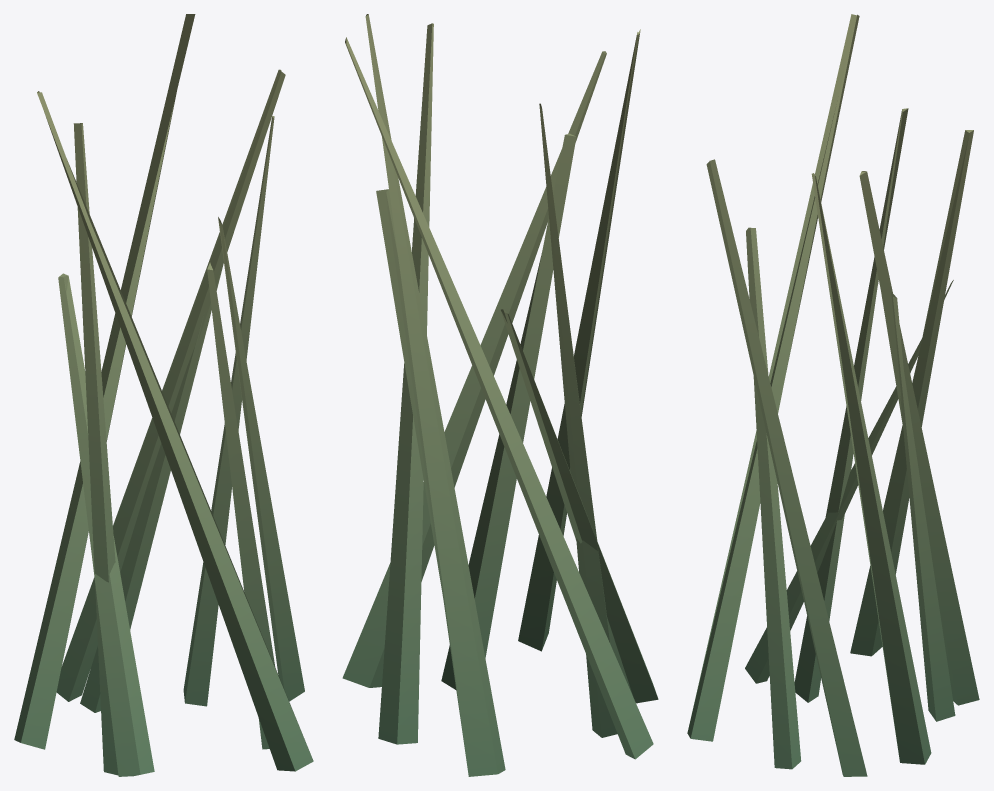
Rendered from river_reed.glb.
3 renders of one model, left to right at view 1: azimuth 30°, elevation 25°; view 2: azimuth 150°, elevation 25°; view 3: azimuth 270°, elevation 25°, orthographic. The views are drawn at different scales.
Parts seen in each view (by area): view 1: river_reed; view 2: river_reed; view 3: river_reed.
Boxes of the visible parts, x1,y1,x2,y2 form: river_reed: (14, 14, 313, 776); river_reed: (342, 14, 658, 776); river_reed: (687, 14, 979, 776).
Bounding box in the file's own units: 1.1 × 2.52 × 1.01.
